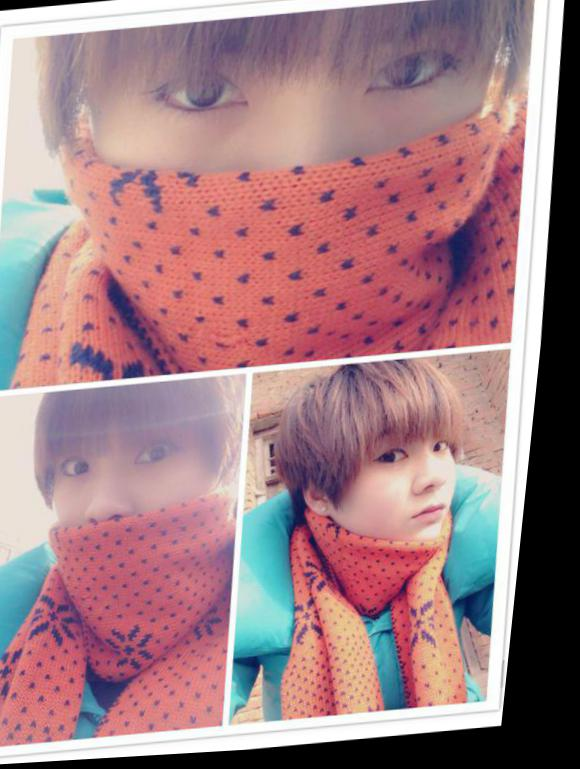NONE: (339, 428, 475, 553)
OK: (71, 1, 494, 406)
WRONG: (35, 407, 246, 611)
